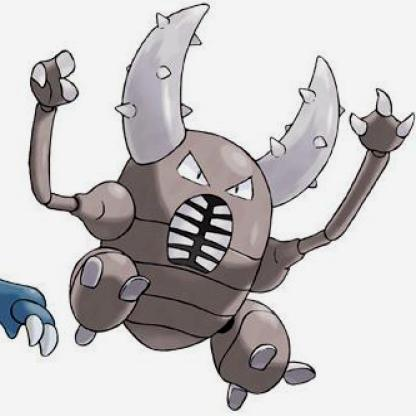Pinsir: (1, 0, 415, 415)
